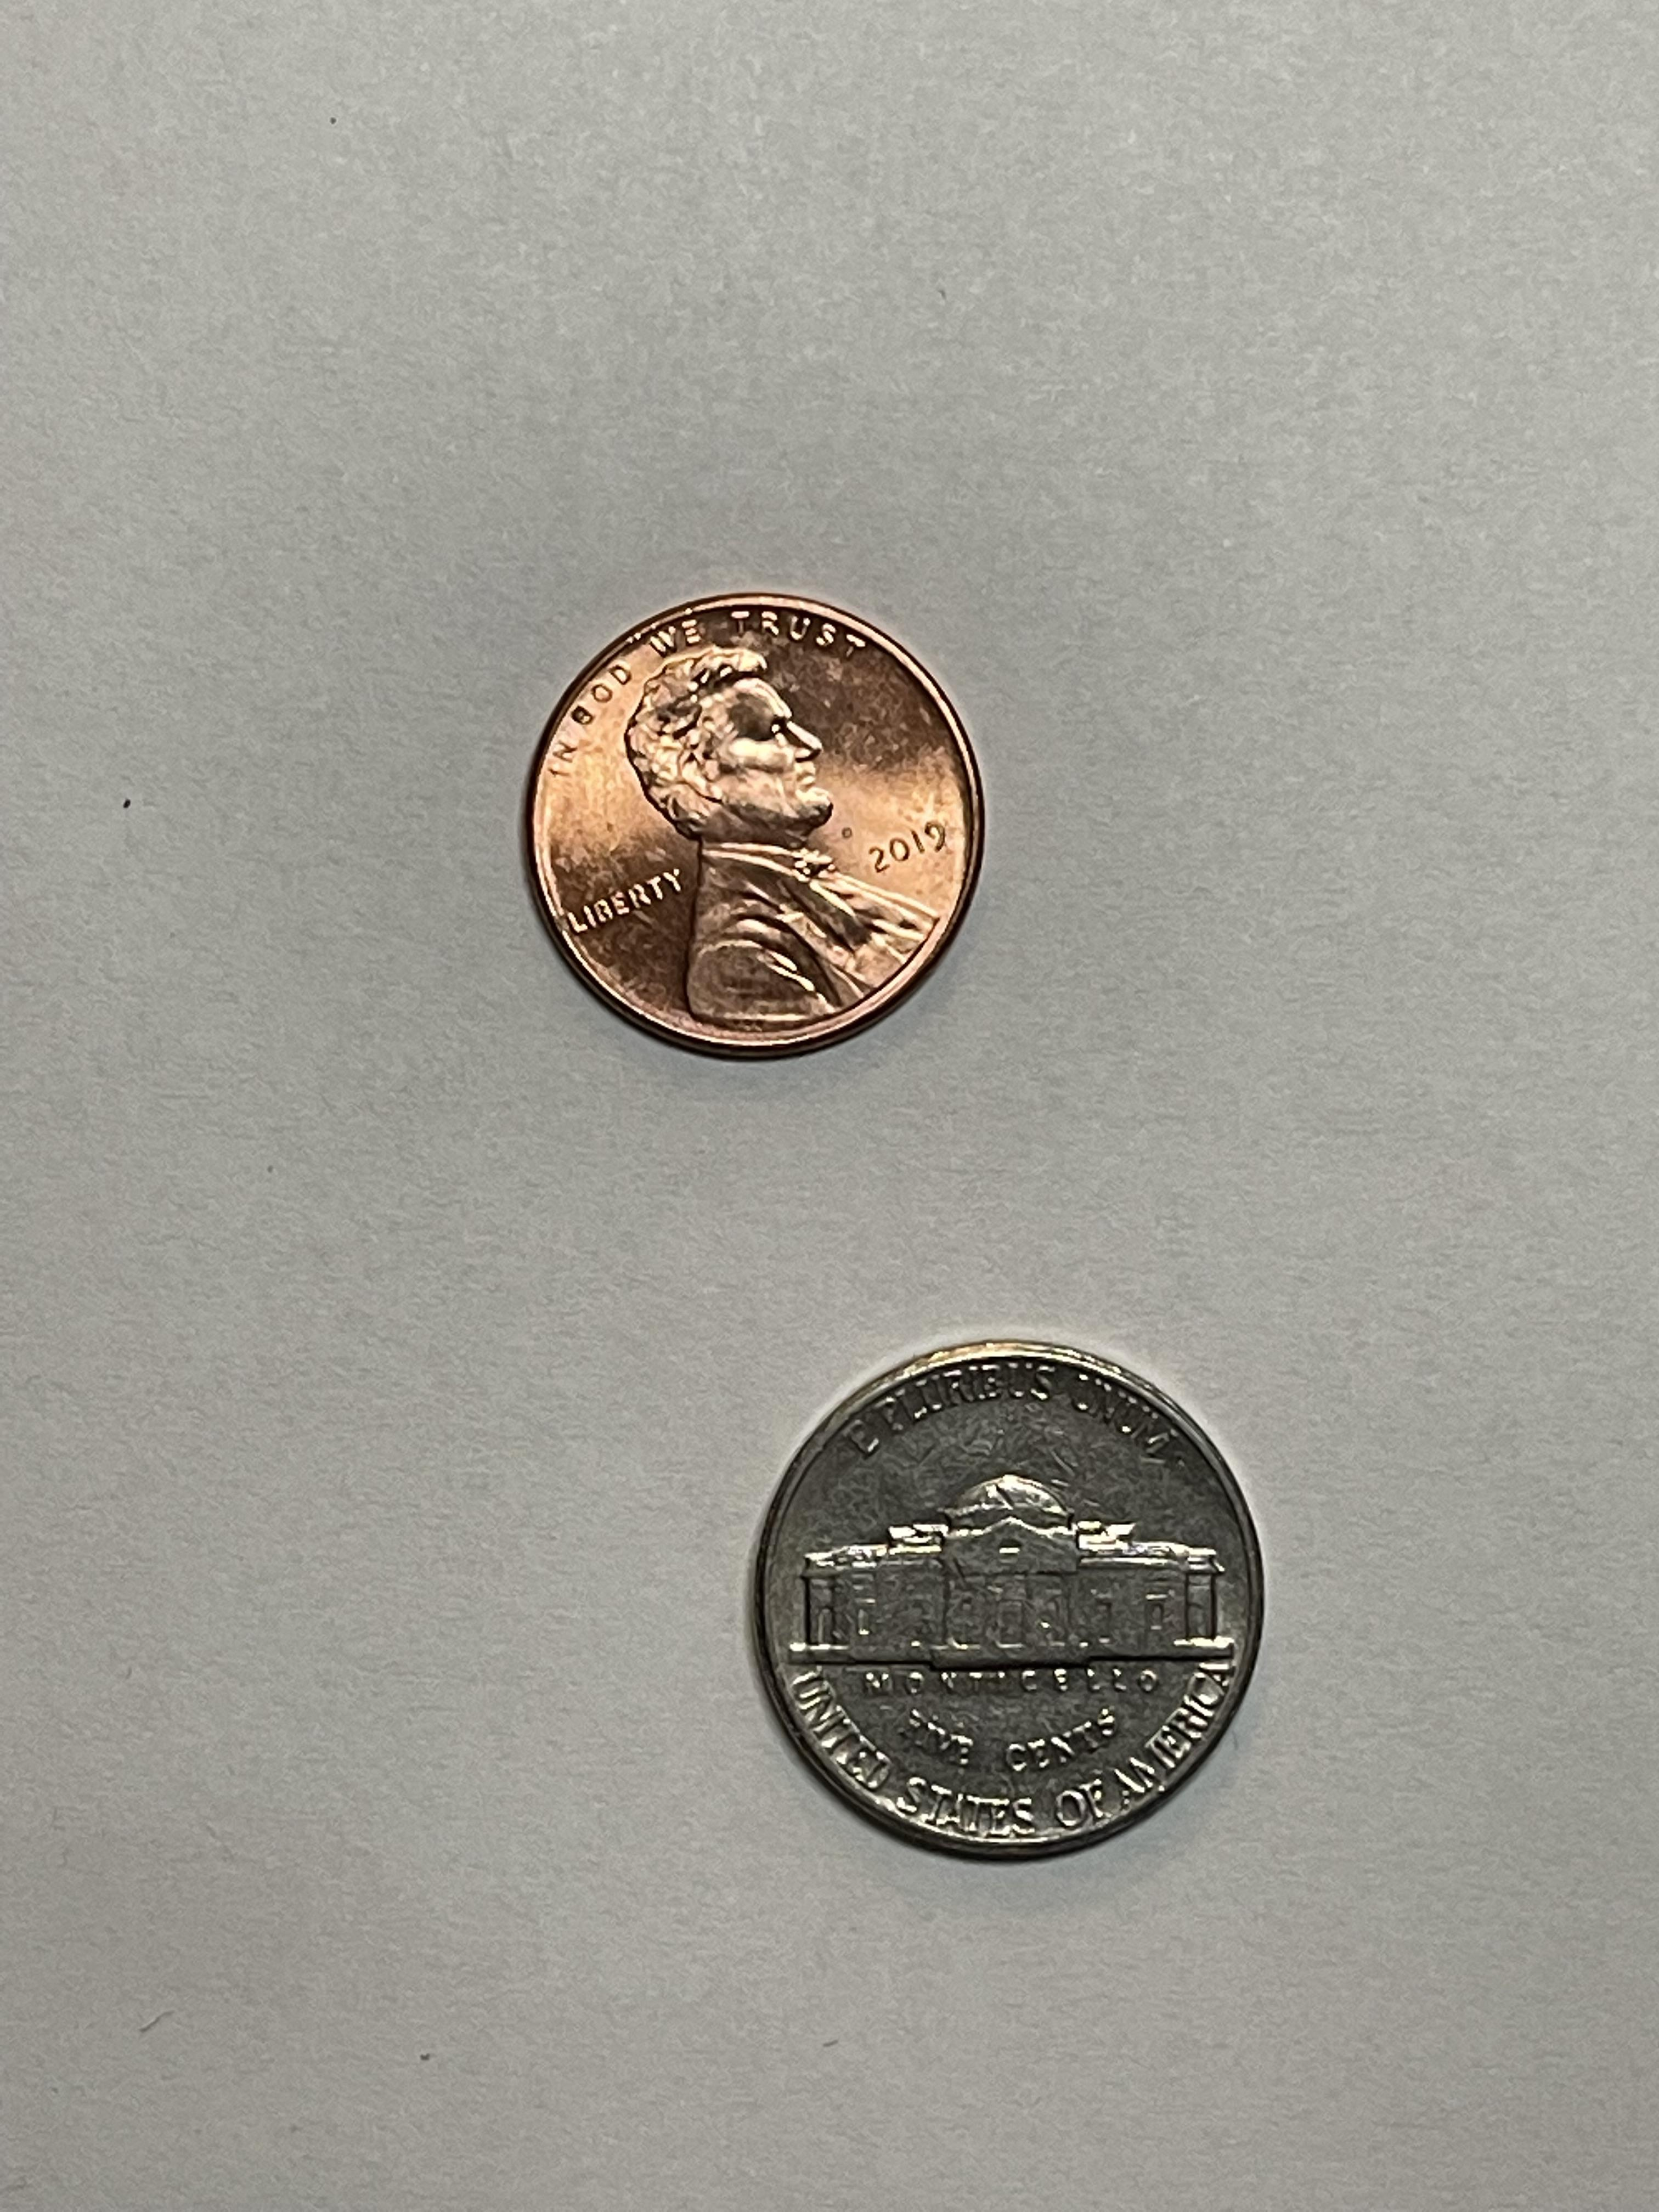Nickel: (751, 1334, 1269, 1864)
Penny: (521, 589, 986, 1066)
